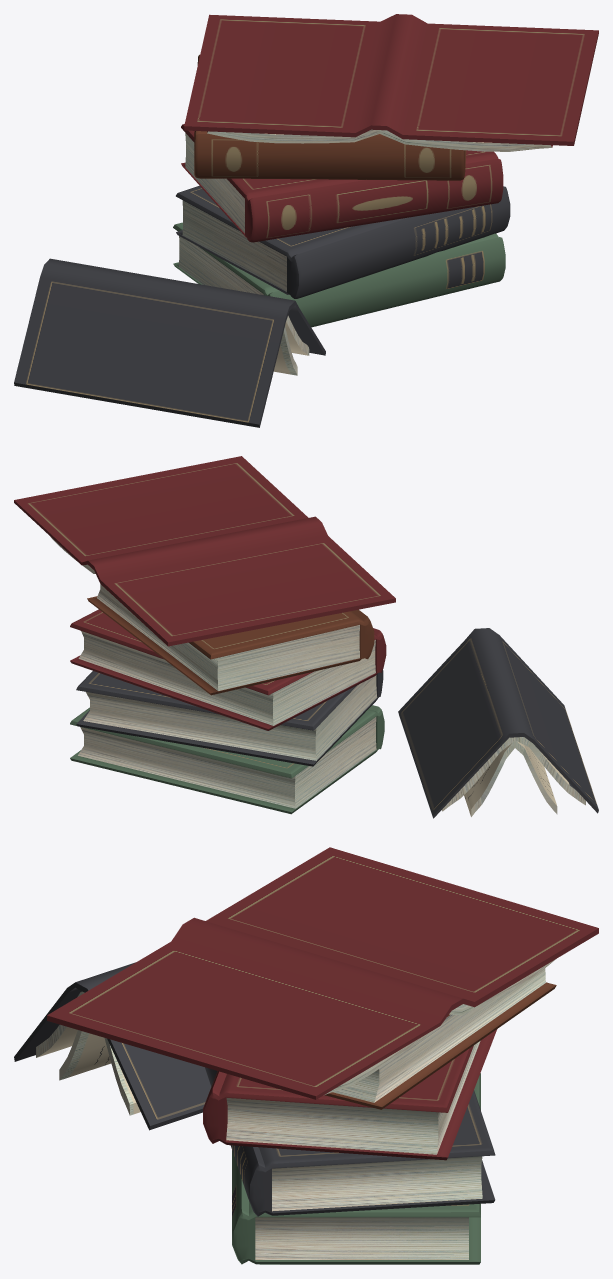
The model's file is AP_BookPileMessy2_CS.fbx.
3 views of the same model, one above another, from view 1: azimuth 30°, elevation 25°; view 2: azimuth 150°, elevation 25°; view 3: azimuth 270°, elevation 25° (orthographic). The views are drawn at different scales.
Visible parts, largest first — view 1: polySurface6, polySurface5, bookblue, bookred, bookgreen, bookbrown; view 2: polySurface6, polySurface5, bookgreen, bookblue, bookbrown, bookred; view 3: polySurface6, bookred, bookblue, bookgreen, polySurface5, bookbrown.
Part boxes in pixels (x1,y1,x2,y2): polySurface6: (184,14,598,151); polySurface5: (14,258,325,427); bookblue: (176,186,510,298); bookred: (181,124,503,242); bookgreen: (173,222,505,327); bookbrown: (194,54,466,180); polySurface6: (14,456,395,646); polySurface5: (398,628,598,818); bookgreen: (70,705,384,814); bookblue: (76,670,383,766); bookbrown: (87,584,374,695); bookred: (70,609,386,730); polySurface6: (47,847,598,1099); bookred: (203,1029,497,1160); bookblue: (205,1067,495,1216); bookgreen: (232,1073,480,1264); polySurface5: (14,962,211,1130); bookbrown: (324,968,556,1109).
Bounding box in the file's own units: 9.74 × 3.24 × 6.57.
6 materials, 6 textured.
